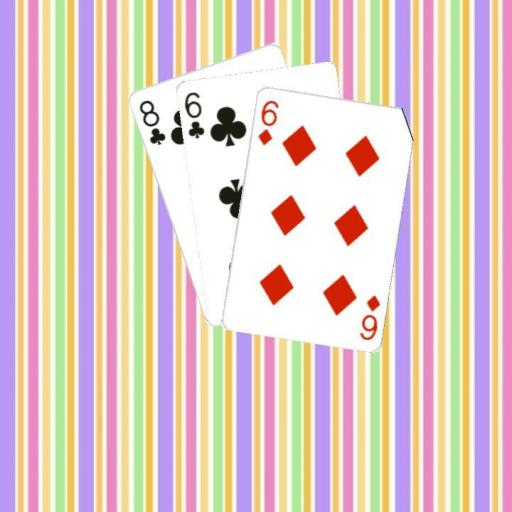6C: (181, 89, 206, 140)
6D: (255, 96, 280, 146), (356, 292, 381, 342)
8C: (135, 96, 167, 146)
